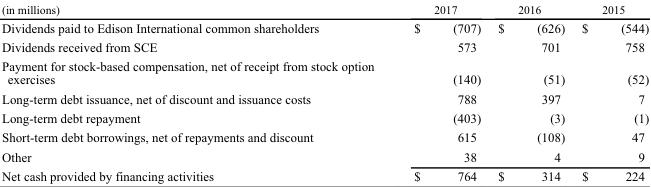table: (1, 0, 648, 184)
table column: (1, 0, 393, 184), (393, 0, 488, 184), (488, 0, 572, 184), (572, 0, 648, 184)
table column header: (1, 0, 648, 17)
table row: (1, 56, 648, 88), (1, 36, 648, 56), (1, 107, 648, 127), (1, 146, 648, 166), (1, 17, 648, 36), (1, 88, 648, 107), (1, 127, 648, 146), (1, 166, 648, 184), (1, 0, 648, 17)
